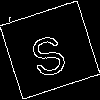S: (25, 25, 70, 80)
